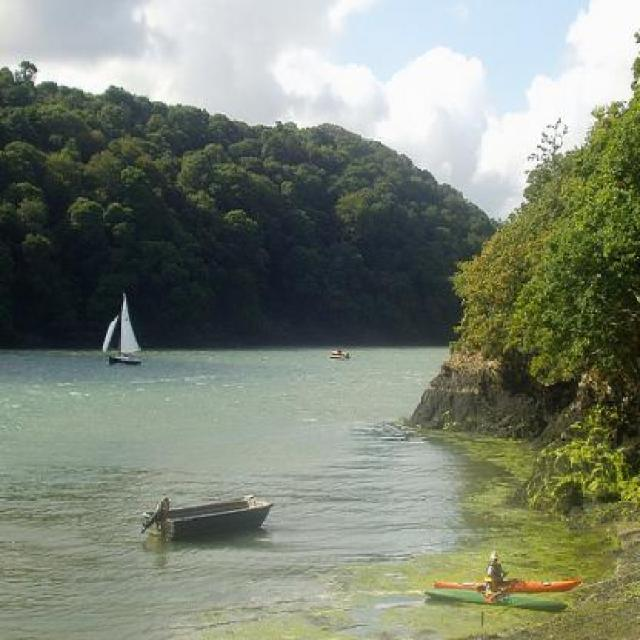ship: (117, 473, 280, 535), (83, 289, 157, 373)
